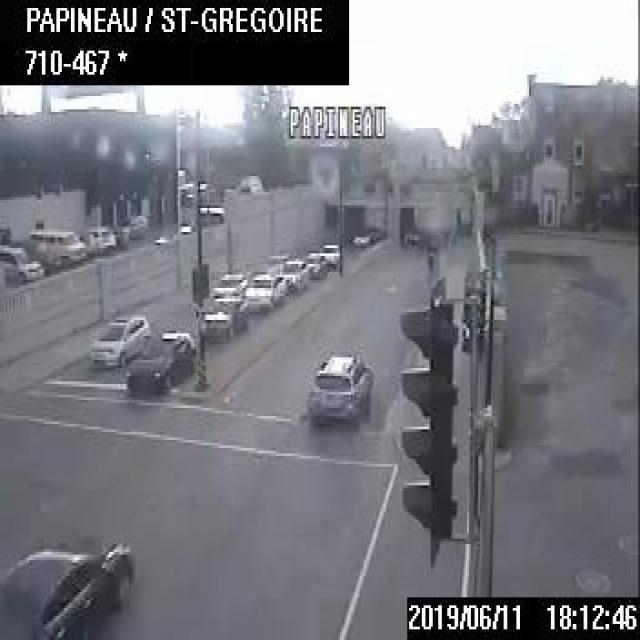vehicle: (0, 523, 131, 637), (304, 344, 372, 427), (123, 330, 202, 394), (87, 309, 151, 371), (26, 223, 88, 266), (193, 292, 246, 342), (242, 270, 291, 313), (0, 242, 45, 285), (210, 269, 247, 303), (279, 255, 307, 292), (302, 248, 327, 279), (319, 241, 341, 270), (349, 230, 369, 246)
